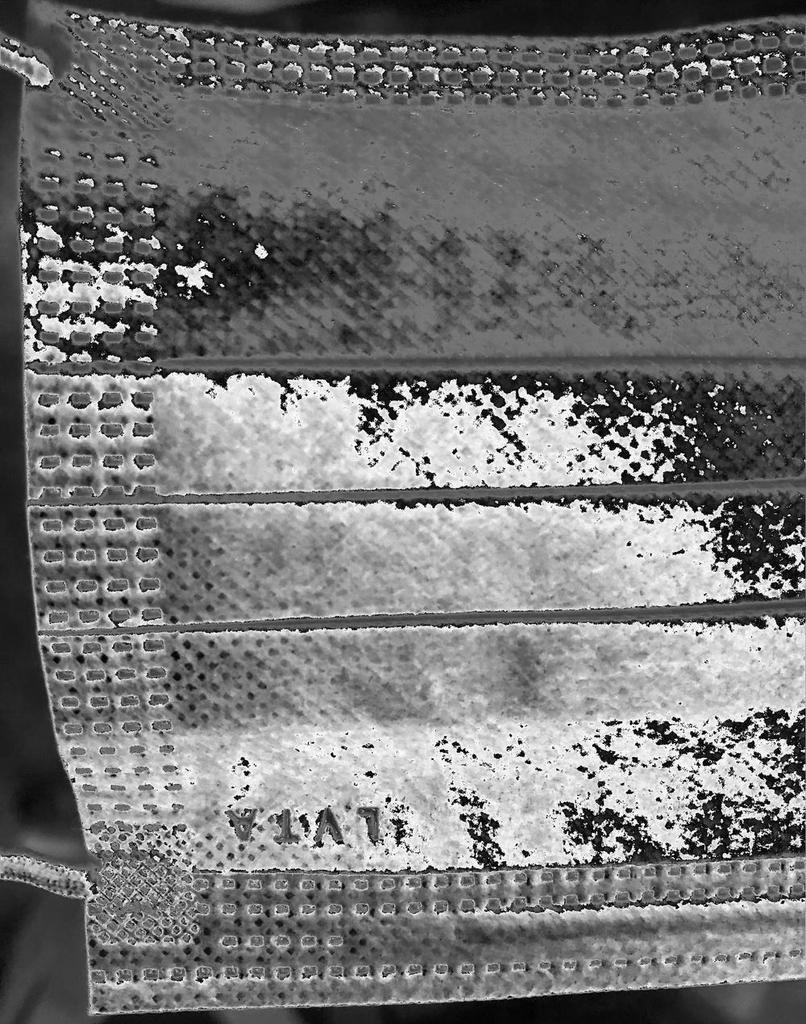High GSM: (166, 378, 802, 852)
